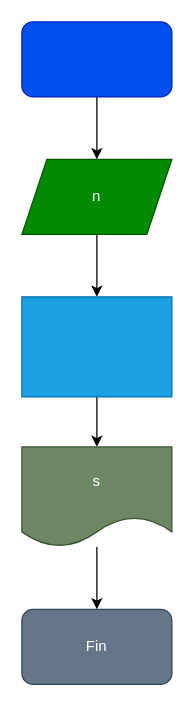
Some shapes in this 194 by 706 pixel diagram are drawn without their labels. The centre of each missing label's shape, as x and y in pixels:
"Inicio" belongs at point 96,59.
"s=n(n+1)/2" belongs at point 96,346.
